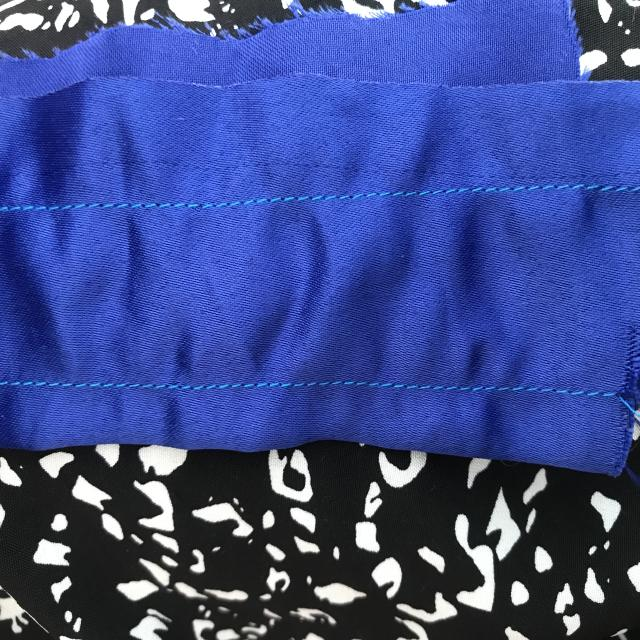good: (328, 371, 472, 404), (61, 371, 218, 401), (210, 192, 350, 215), (52, 197, 176, 222), (440, 179, 561, 201), (498, 379, 594, 405)
